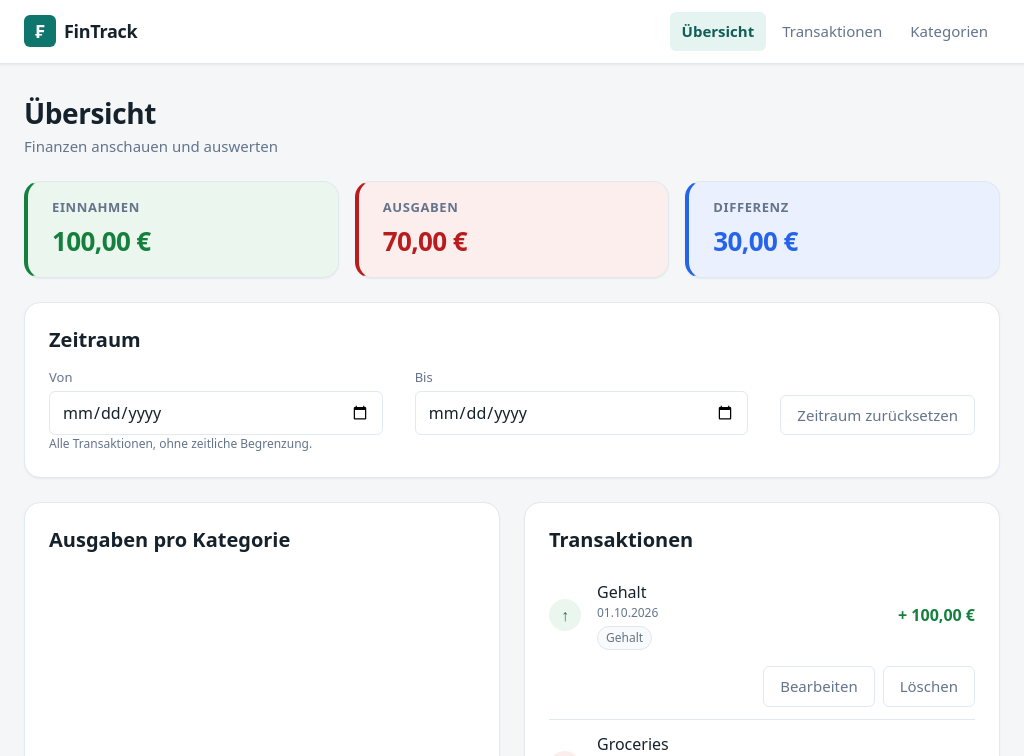
it: shared transaction filters › reports incomplete and reversed ranges, then accepts an inclusive single day
The width and height of the screenshot is (1024, 756).
Type "2026-10-21" into the date field labelled "Von". click: (216, 413)
box: [49,391,383,435]
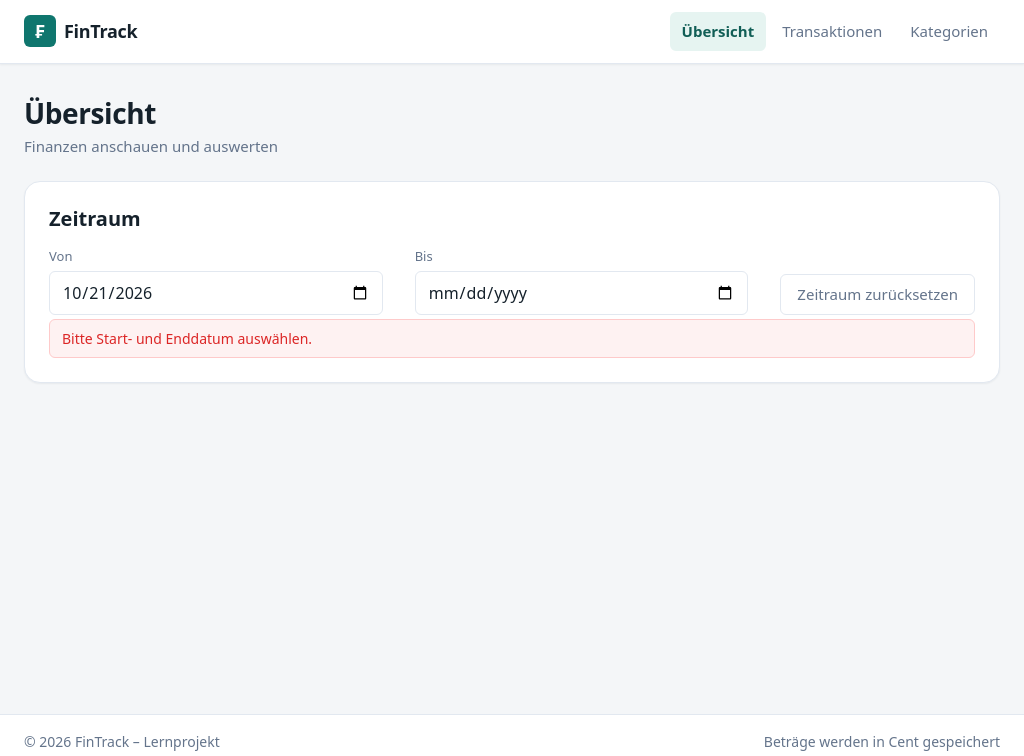
Now the message shows "Start- und Enddatum", box [62,328,312,348]
Now the element with class "stat-grid" is gone
Type "2026-10-20" into the date field labelled "Bis". click: (582, 292)
box: [415,270,748,314]
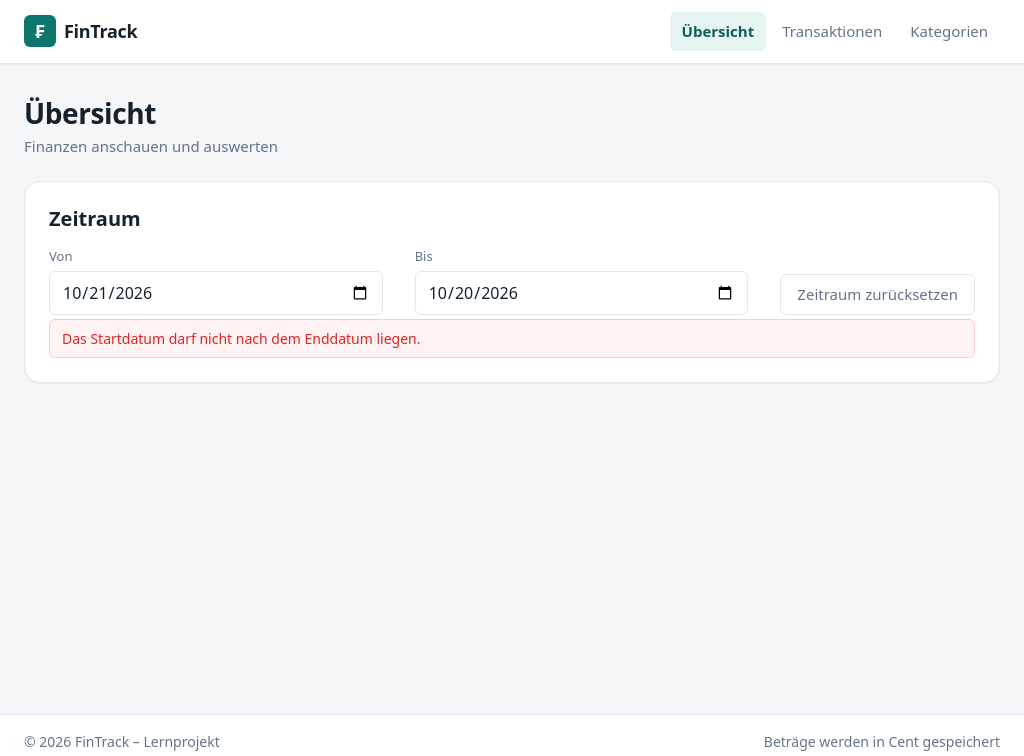
Now the message shows "nicht nach dem Enddatum", box [62,328,420,348]
Type "2026-10-21" into the date field labelled "Bis". click: (582, 292)
box: [415,270,748,314]
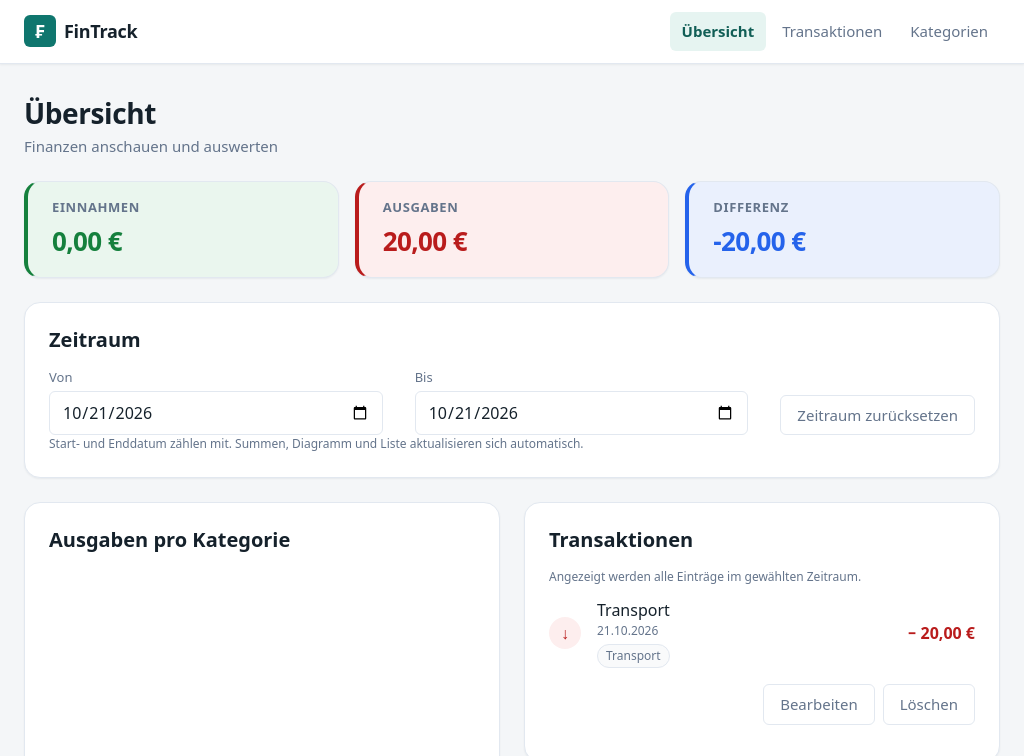
Now the number of list items with class "transaction" is 1, box [549,586,975,736]
Now the text with class "transaction__note" reads "Transport", box [597,599,670,621]
Now the element with class "stat--expense" shows "20,00 €", box [383,222,467,258]
